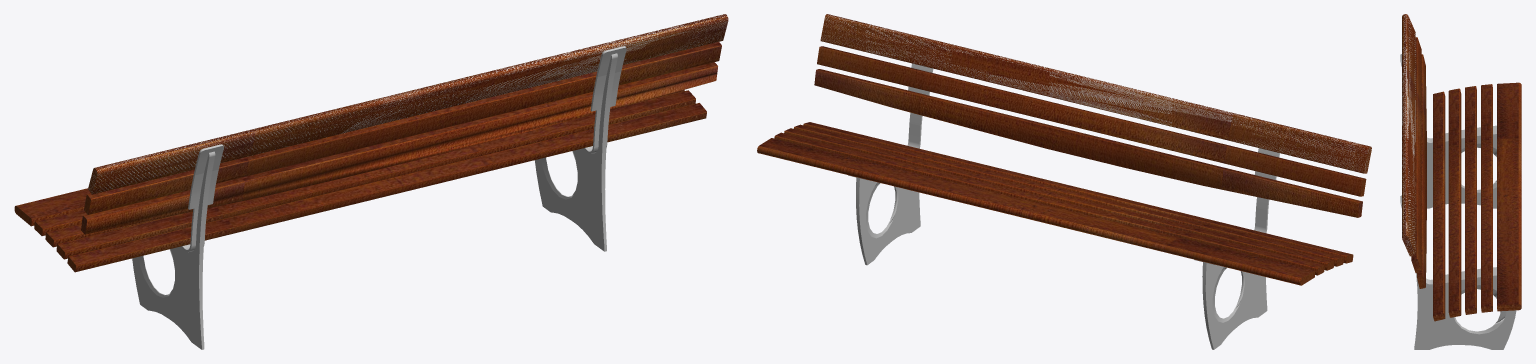
3 renders of one model, left to right at view 1: azimuth 30°, elevation 25°; view 2: azimuth 150°, elevation 25°; view 3: azimuth 270°, elevation 25°, orthographic. The views are drawn at different scales.
Parts seen in each view (by area): view 1: mesh1_mesh1-geometry, mesh8_mesh8-geometry, mesh9_mesh9-geometry, mesh4_mesh4-geometry, mesh5_mesh5-geometry, mesh12_mesh12-geometry; view 2: mesh8_mesh8-geometry, mesh1_mesh1-geometry, mesh9_mesh9-geometry, mesh5_mesh5-geometry, mesh12_mesh12-geometry, mesh4_mesh4-geometry; view 3: mesh1_mesh1-geometry, mesh12_mesh12-geometry, mesh4_mesh4-geometry, mesh8_mesh8-geometry, mesh5_mesh5-geometry, mesh9_mesh9-geometry.
Boxes of the visible parts, <box> form: mesh1_mesh1-geometry: <box>34,90,706,272</box>; mesh8_mesh8-geometry: <box>88,14,728,194</box>; mesh9_mesh9-geometry: <box>81,62,717,234</box>; mesh4_mesh4-geometry: <box>132,46,626,349</box>; mesh5_mesh5-geometry: <box>84,42,721,214</box>; mesh12_mesh12-geometry: <box>14,188,90,226</box>; mesh8_mesh8-geometry: <box>820,14,1371,173</box>; mesh1_mesh1-geometry: <box>774,122,1353,275</box>; mesh9_mesh9-geometry: <box>814,69,1362,217</box>; mesh5_mesh5-geometry: <box>817,46,1366,196</box>; mesh12_mesh12-geometry: <box>757,138,1315,285</box>; mesh4_mesh4-geometry: <box>848,63,1279,349</box>; mesh1_mesh1-geometry: <box>1433,84,1492,321</box>; mesh12_mesh12-geometry: <box>1497,82,1521,311</box>; mesh4_mesh4-geometry: <box>1400,54,1516,349</box>; mesh8_mesh8-geometry: <box>1402,14,1415,256</box>; mesh5_mesh5-geometry: <box>1411,37,1421,273</box>; mesh9_mesh9-geometry: <box>1417,54,1426,288</box>.
Bounding box in the file's own units: 0.9291 × 0.3009 × 0.215.
